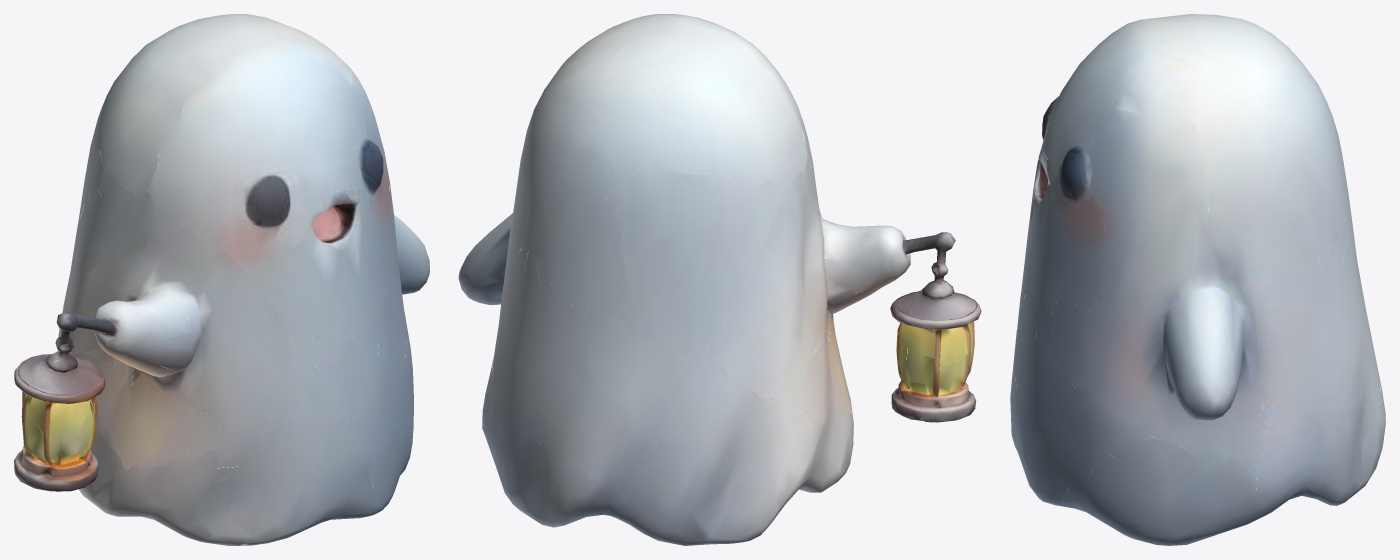
Rendered from mob_ghost.glb.
The picture shows the model from 3 angles, left to right: view 1: azimuth 30°, elevation 25°; view 2: azimuth 150°, elevation 25°; view 3: azimuth 270°, elevation 25°; orthographic projection.
Visible parts, largest first — view 1: tripo_node_c0cf30f2-8bbd-47d3-addb-b3e289b3095b; view 2: tripo_node_c0cf30f2-8bbd-47d3-addb-b3e289b3095b; view 3: tripo_node_c0cf30f2-8bbd-47d3-addb-b3e289b3095b.
Part boxes in pixels (x1,y1,x2,y2): tripo_node_c0cf30f2-8bbd-47d3-addb-b3e289b3095b: [14, 14, 429, 545]; tripo_node_c0cf30f2-8bbd-47d3-addb-b3e289b3095b: [458, 14, 981, 545]; tripo_node_c0cf30f2-8bbd-47d3-addb-b3e289b3095b: [1010, 14, 1385, 545].
Bounding box in the file's own units: 1 × 0.9812 × 0.7071.
1 material, 1 textured.
